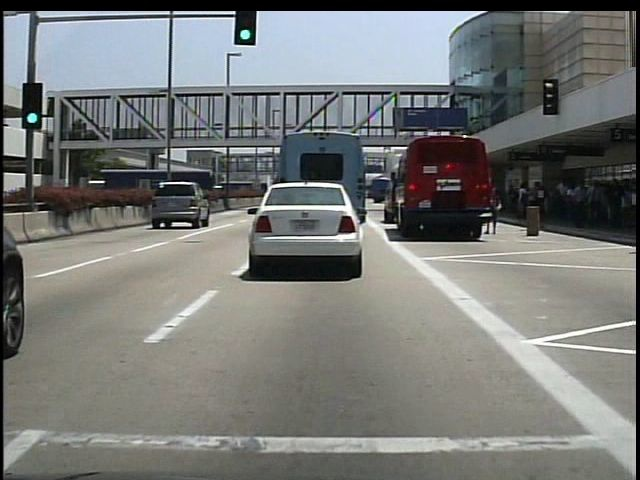person: (488, 188, 501, 238)
